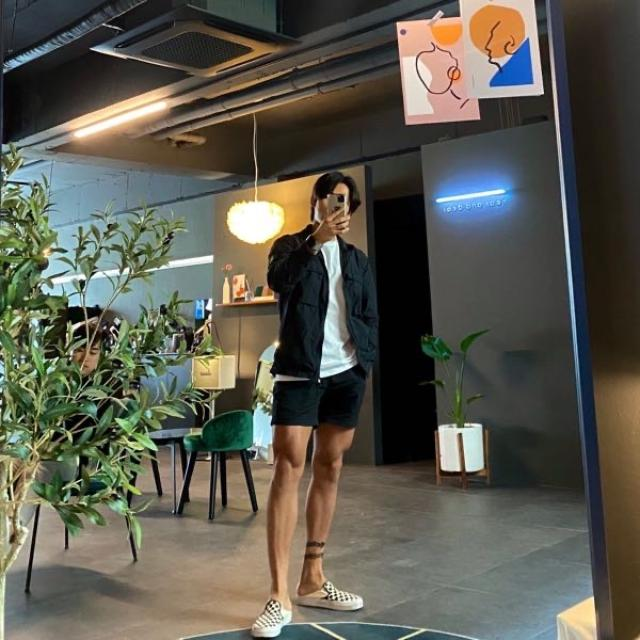jacket: (260, 221, 381, 379)
shortpants: (266, 360, 368, 432)
